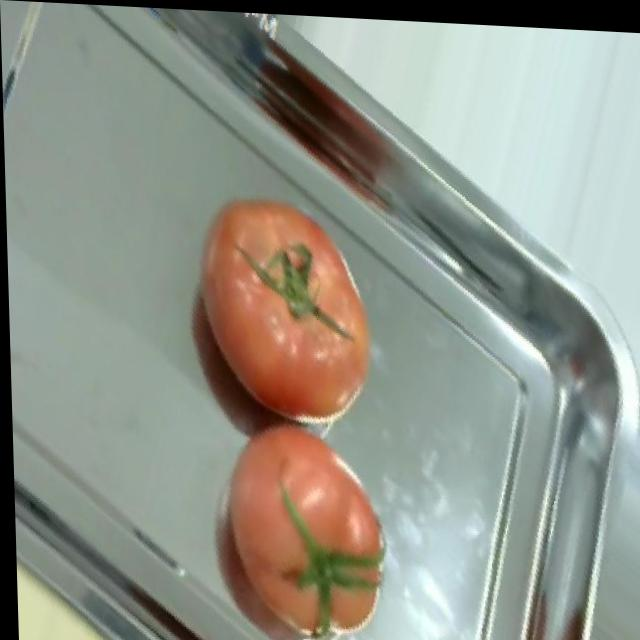sari: (176, 169, 400, 630)
